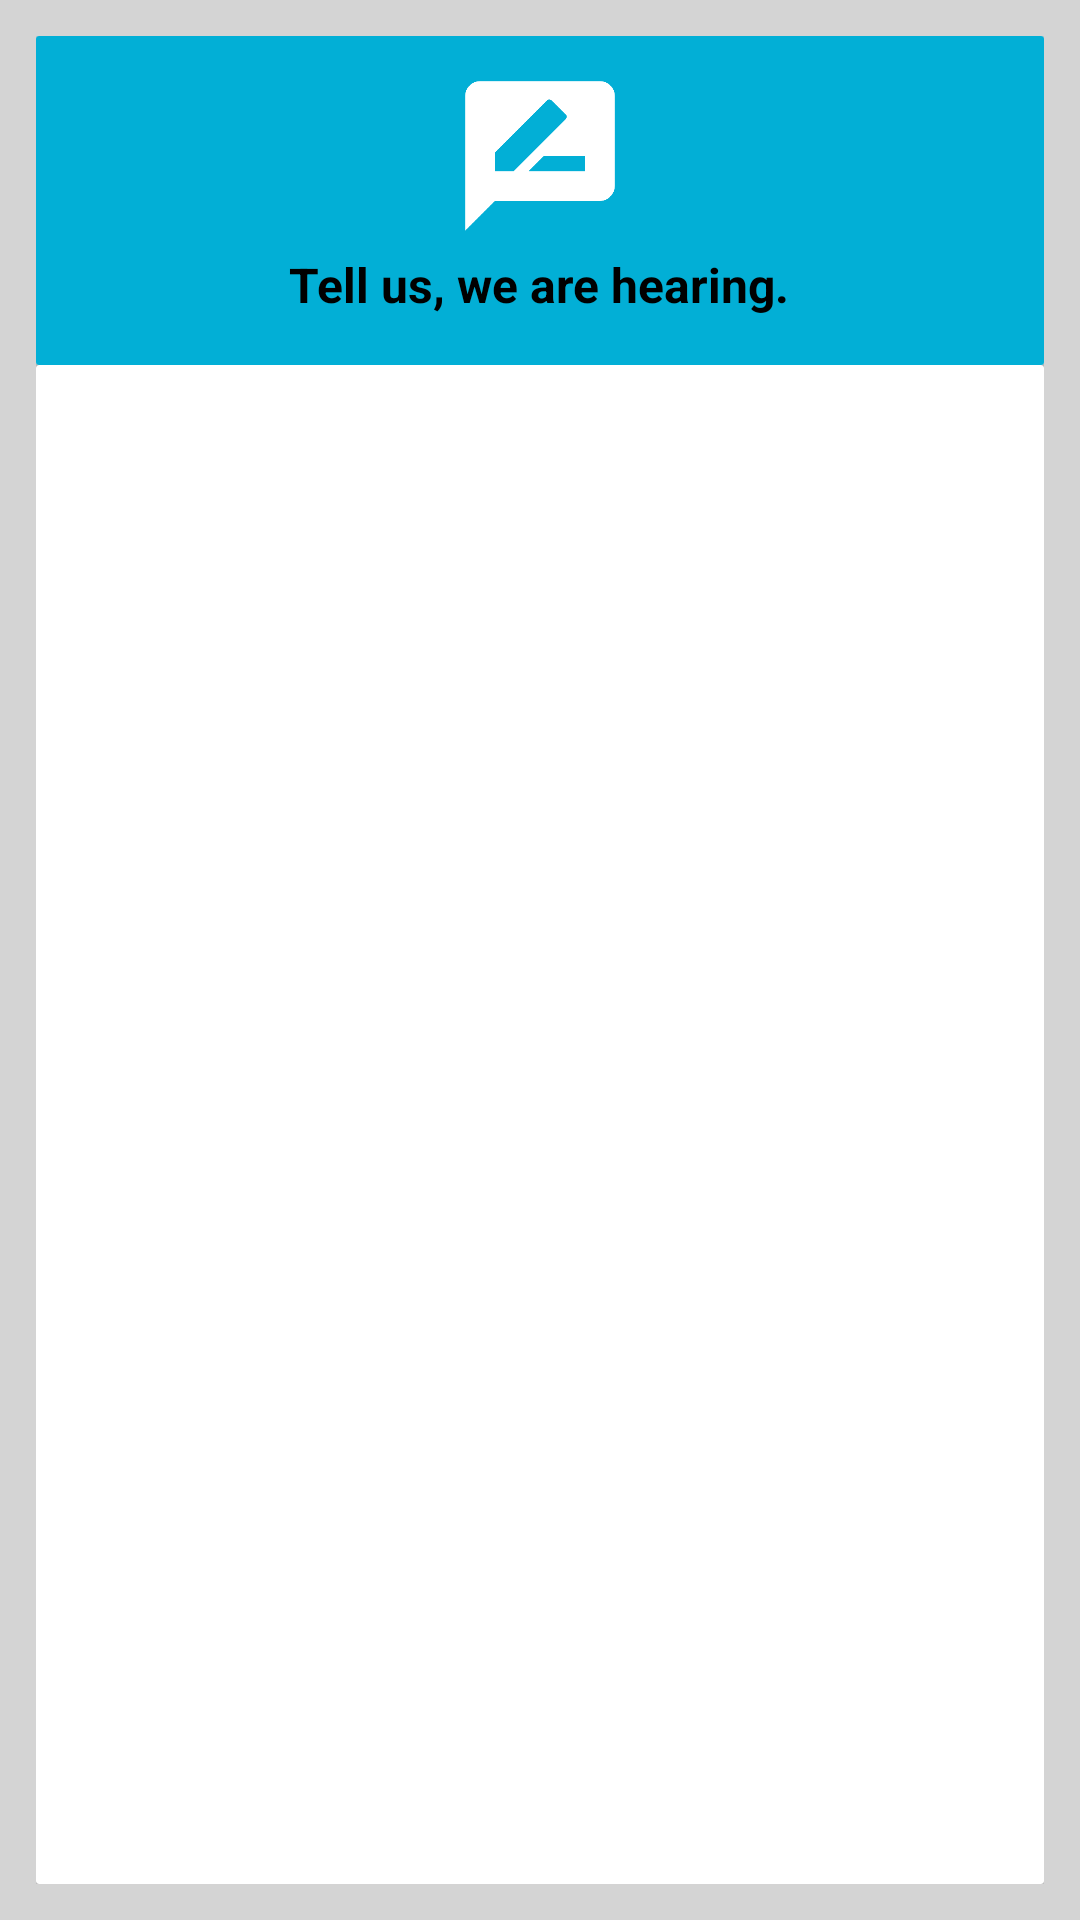

Screen size 1080px x 1920px. Icon name, then its center in pixels as (x=x, y=y):
feedback: (x=540, y=156)
